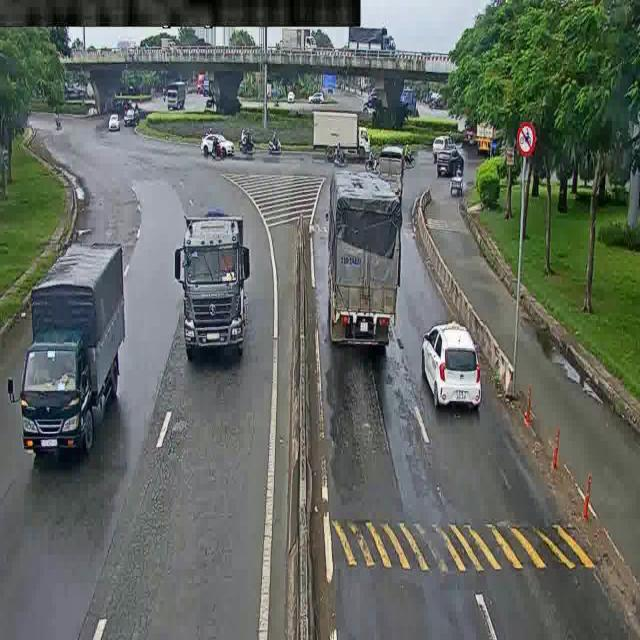car: (413, 313, 485, 416), (379, 142, 412, 213), (196, 126, 231, 157), (433, 147, 463, 173), (120, 102, 142, 131), (433, 128, 451, 156), (109, 113, 123, 140)
motorbike: (235, 122, 262, 171), (265, 124, 290, 166), (51, 109, 65, 136), (209, 138, 224, 157)
truck: (9, 240, 156, 477), (167, 204, 264, 378), (318, 169, 405, 351), (312, 104, 367, 158), (161, 77, 183, 106)
